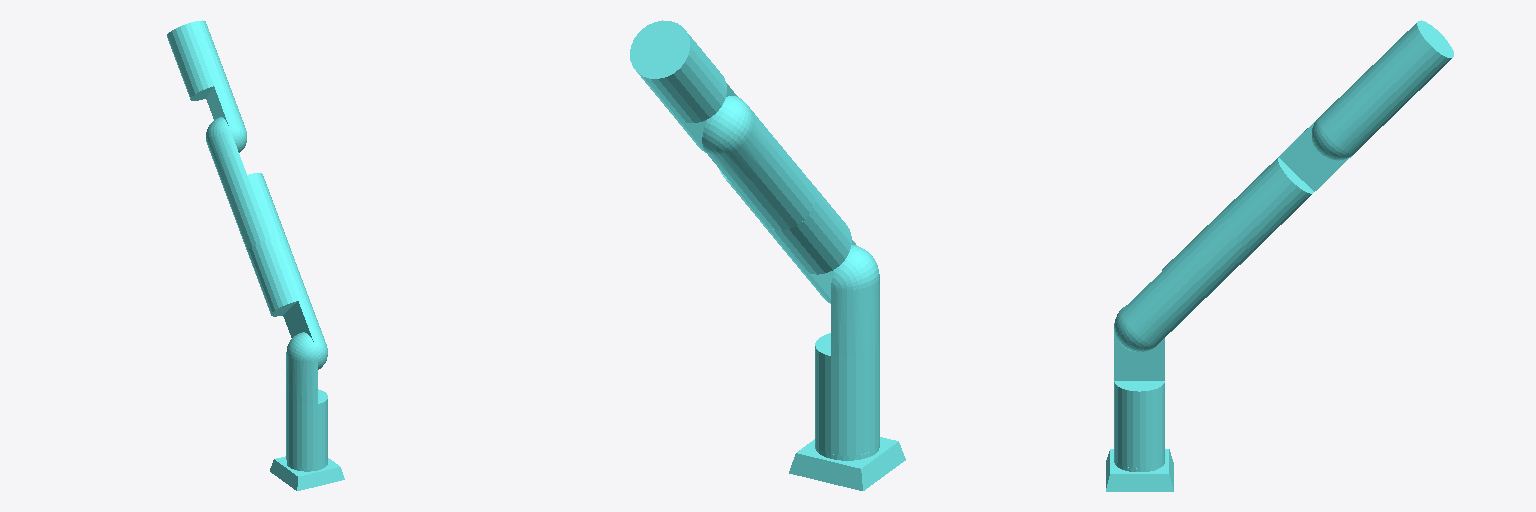
robot.urdf — SW2URDF-example.SLDASM:
<?xml version="1.0" encoding="utf-8"?>
<!-- This URDF was automatically created by SolidWorks to URDF Exporter! Originally created by Stephen Brawner (brawner@gmail.com) 
     Commit Version: 1.5.1-0-g916b5db  Build Version: 1.5.7152.31018
     For more information, please see http://wiki.ros.org/sw_urdf_exporter -->
<robot
  name="SW2URDF-example.SLDASM">
  <link
    name="base_link">
    <inertial>
      <origin
        xyz="0 0.0109992961818199 -1.1398930317257E-17"
        rpy="0 0 0" />
      <mass
        value="0.992874017149237" />
      <inertia
        ixx="0.000487464129670462"
        ixy="-5.11397876535285E-22"
        ixz="3.2384120981451E-20"
        iyy="0.000882976507717156"
        iyz="-3.1258904037838E-20"
        izz="0.000487464129670462" />
    </inertial>
    <visual>
      <origin
        xyz="0 0 0"
        rpy="0 0 0" />
      <geometry>
        <mesh
          filename="package://SW2URDF-example.SLDASM/meshes/base_link.STL" />
      </geometry>
      <material
        name="">
        <color
          rgba="0.501960784313725 1 1 1" />
      </material>
    </visual>
    <collision>
      <origin
        xyz="0 0 0"
        rpy="0 0 0" />
      <geometry>
        <mesh
          filename="package://SW2URDF-example.SLDASM/meshes/base_link.STL" />
      </geometry>
    </collision>
  </link>
  <link
    name="link_1">
    <inertial>
      <origin
        xyz="-0.00384919890108488 0.0795689655172414 -1.0330228392124E-18"
        rpy="0 0 0" />
      <mass
        value="3.21012649732785" />
      <inertia
        ixx="0.00949086208873094"
        ixy="0.000797469625841798"
        ixz="-3.58117221677899E-20"
        iyy="0.00137706970018608"
        iyz="2.23195828579468E-19"
        izz="0.00944329978820635" />
    </inertial>
    <visual>
      <origin
        xyz="0 0 0"
        rpy="0 0 0" />
      <geometry>
        <mesh
          filename="package://SW2URDF-example.SLDASM/meshes/link_1.STL" />
      </geometry>
      <material
        name="">
        <color
          rgba="0.501960784313725 1 1 1" />
      </material>
    </visual>
    <collision>
      <origin
        xyz="0 0 0"
        rpy="0 0 0" />
      <geometry>
        <mesh
          filename="package://SW2URDF-example.SLDASM/meshes/link_1.STL" />
      </geometry>
    </collision>
  </link>
  <joint
    name="joint_1"
    type="continuous">
    <origin
      xyz="0 0 0.025"
      rpy="1.5708 0 0" />
    <parent
      link="base_link" />
    <child
      link="link_1" />
    <axis
      xyz="0 1 0" />
  </joint>
  <link
    name="link_2">
    <inertial>
      <origin
        xyz="-0.00384919890108487 -0.0904310344827586 -8.32667268468867E-17"
        rpy="0 0 0" />
      <mass
        value="3.21012649732785" />
      <inertia
        ixx="0.00949086208873095"
        ixy="0.000797469625841799"
        ixz="5.14996031930615E-19"
        iyy="0.00137706970018608"
        iyz="-5.20417042793042E-18"
        izz="0.00944329978820636" />
    </inertial>
    <visual>
      <origin
        xyz="0 0 0"
        rpy="0 0 0" />
      <geometry>
        <mesh
          filename="package://SW2URDF-example.SLDASM/meshes/link_2.STL" />
      </geometry>
      <material
        name="">
        <color
          rgba="0.501960784313725 1 1 1" />
      </material>
    </visual>
    <collision>
      <origin
        xyz="0 0 0"
        rpy="0 0 0" />
      <geometry>
        <mesh
          filename="package://SW2URDF-example.SLDASM/meshes/link_2.STL" />
      </geometry>
    </collision>
  </link>
  <joint
    name="joint_2"
    type="revolute">
    <origin
      xyz="0 0.17 0"
      rpy="0.75097 0 3.1416" />
    <parent
      link="link_1" />
    <child
      link="link_2" />
    <axis
      xyz="1 0 0" />
    <limit
      lower="-2094395"
      upper="2094395"
      effort="0"
      velocity="0" />
  </joint>
  <link
    name="link_3">
    <inertial>
      <origin
        xyz="-0.00384919890108487 -0.0135499270773476 0"
        rpy="0 0 0" />
      <mass
        value="3.21012649732785" />
      <inertia
        ixx="0.00949086208873095"
        ixy="0.000797469625841798"
        ixz="8.13151629364128E-19"
        iyy="0.00137706970018608"
        iyz="-3.25260651745651E-18"
        izz="0.00944329978820636" />
    </inertial>
    <visual>
      <origin
        xyz="0 0 0"
        rpy="0 0 0" />
      <geometry>
        <mesh
          filename="package://SW2URDF-example.SLDASM/meshes/link_3.STL" />
      </geometry>
      <material
        name="">
        <color
          rgba="0.501960784313725 1 1 1" />
      </material>
    </visual>
    <collision>
      <origin
        xyz="0 0 0"
        rpy="0 0 0" />
      <geometry>
        <mesh
          filename="package://SW2URDF-example.SLDASM/meshes/link_3.STL" />
      </geometry>
    </collision>
  </link>
  <joint
    name="joint_3"
    type="continuous">
    <origin
      xyz="0 -0.26312 0"
      rpy="0 -0.19447 -3.1416" />
    <parent
      link="link_2" />
    <child
      link="link_3" />
    <axis
      xyz="0 1 0" />
  </joint>
  <link
    name="link_4">
    <inertial>
      <origin
        xyz="-0.00384919890108492 -0.0904310344827587 1.66533453693773E-16"
        rpy="0 0 0" />
      <mass
        value="3.21012649732786" />
      <inertia
        ixx="0.00949086208873095"
        ixy="0.000797469625841797"
        ixz="-1.13841228110978E-18"
        iyy="0.00137706970018608"
        iyz="4.33680868994202E-18"
        izz="0.00944329978820636" />
    </inertial>
    <visual>
      <origin
        xyz="0 0 0"
        rpy="0 0 0" />
      <geometry>
        <mesh
          filename="package://SW2URDF-example.SLDASM/meshes/link_4.STL" />
      </geometry>
      <material
        name="">
        <color
          rgba="0.501960784313725 1 1 1" />
      </material>
    </visual>
    <collision>
      <origin
        xyz="0 0 0"
        rpy="0 0 0" />
      <geometry>
        <mesh
          filename="package://SW2URDF-example.SLDASM/meshes/link_4.STL" />
      </geometry>
    </collision>
  </link>
  <joint
    name="joint_4"
    type="revolute">
    <origin
      xyz="0 0.076881 0"
      rpy="0 0 -3.1416" />
    <parent
      link="link_3" />
    <child
      link="link_4" />
    <axis
      xyz="1 0 0" />
    <limit
      lower="-2094400"
      upper="2094400"
      effort="0"
      velocity="0" />
  </joint>
</robot>

--- What the picture shows (computed from the rendered views, not written in the file) ---
The picture shows the robot from 3 angles, left to right: view 1: azimuth 30°, elevation 25°; view 2: azimuth 150°, elevation 25°; view 3: azimuth 270°, elevation 25°; orthographic projection.
Robot: SW2URDF-example.SLDASM — 5 links, 4 joints (2 revolute, 2 continuous); root link base_link; default pose: all joints at 0.
Visible links, largest first — view 1: link_1, link_3, link_2, link_4, base_link; view 2: link_1, link_3, link_4, link_2, base_link; view 3: link_4, link_2, link_3, link_1, base_link.
Link boxes in pixels (x1,y1,x2,y2): link_1: [286, 332, 327, 468]; link_3: [206, 117, 285, 251]; link_2: [248, 236, 327, 369]; link_4: [167, 20, 246, 152]; base_link: [270, 456, 344, 490]; link_1: [815, 245, 879, 455]; link_3: [702, 96, 814, 229]; link_4: [630, 20, 737, 152]; link_2: [763, 181, 855, 303]; base_link: [789, 437, 905, 490]; link_4: [1312, 20, 1453, 160]; link_2: [1114, 214, 1254, 351]; link_3: [1220, 121, 1351, 249]; link_1: [1114, 305, 1164, 468]; base_link: [1106, 449, 1173, 491].
Size in the robot's own frame: 0.08 by 0.4099 by 0.5883 metres.
Meshes: 5 distinct files referenced, 5 mesh visuals loaded (5 binary STL).
